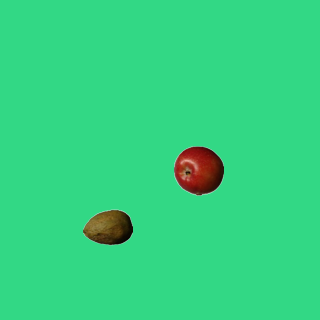Apple Braeburn: (173, 145, 223, 195)
Papaya: (82, 202, 132, 252)
